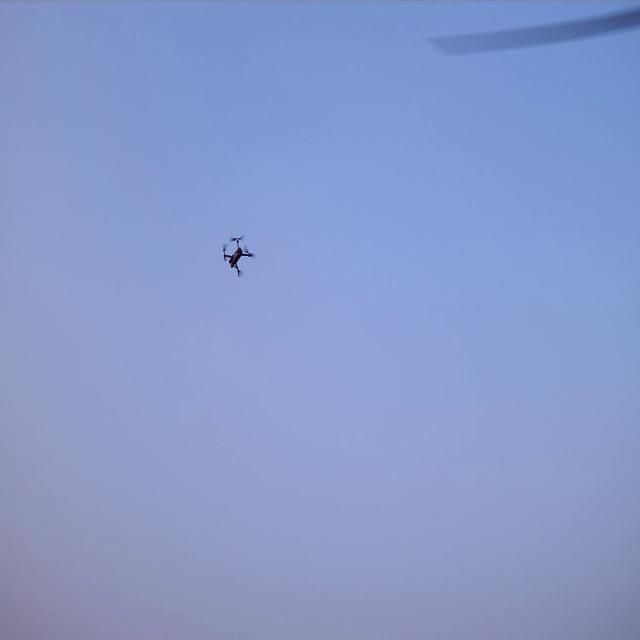UAV: (224, 238, 252, 275)
